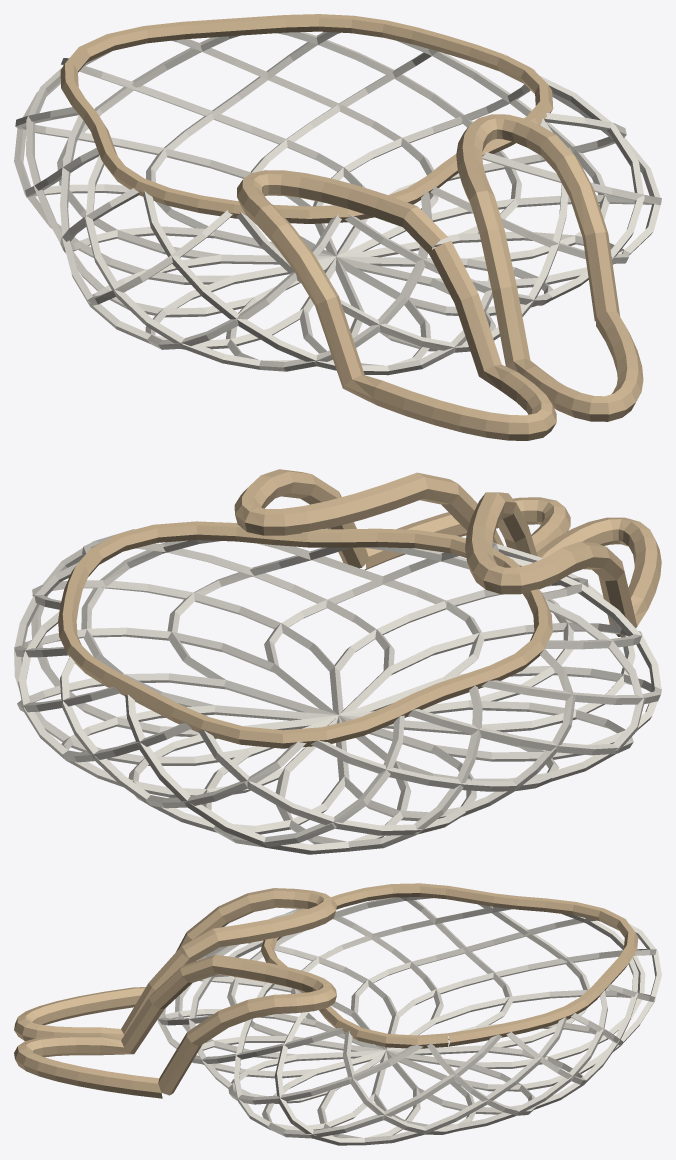
File: fresh-produce-and-groceries-string-shopping-bag-e167b0c6__24457.glb
3 renders of one model, top to bottom at view 1: azimuth 30°, elevation 25°; view 2: azimuth 150°, elevation 25°; view 3: azimuth 270°, elevation 25°, orthographic. The views are drawn at different scales.
Parts seen in each view (by area): view 1: string-shopping-bag; view 2: string-shopping-bag; view 3: string-shopping-bag.
Boxes of the visible parts, x1,y1,x2,y2 form: string-shopping-bag: (14,14,661,440); string-shopping-bag: (14,469,661,854); string-shopping-bag: (14,883,661,1145).
Size of the model in its own units: 0.3594 by 0.0927 by 0.4766.
